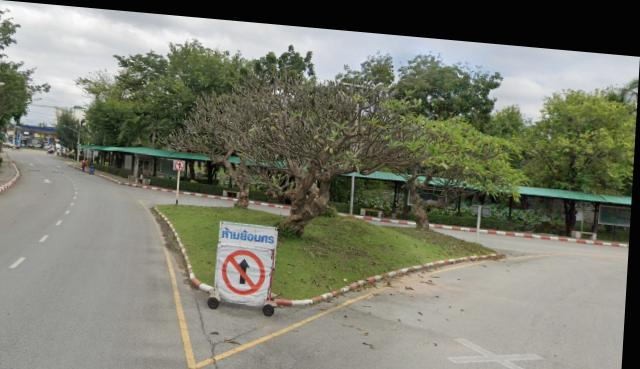not_go_straight: (225, 244, 271, 293), (177, 158, 189, 169)
